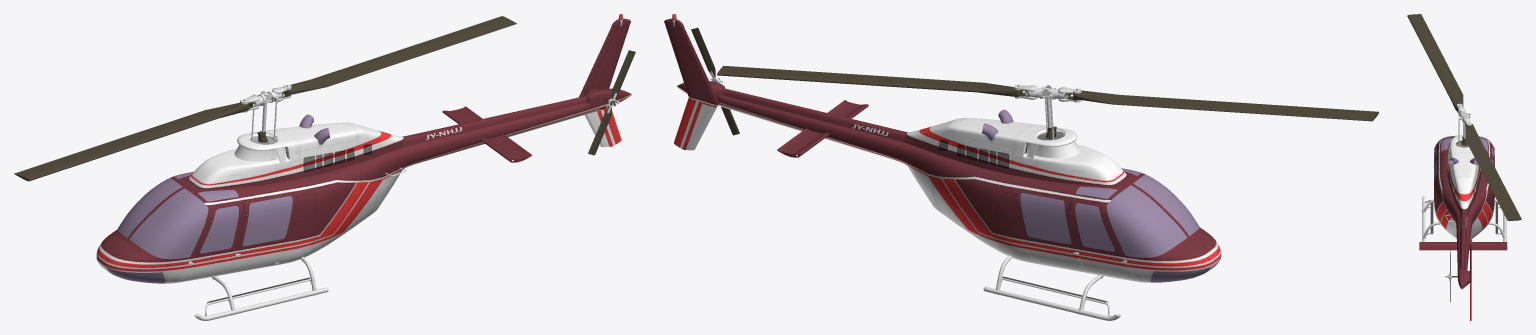
File: helicopter.gltf
3 views of the same model, side by side, from view 1: azimuth 30°, elevation 25°; view 2: azimuth 150°, elevation 25°; view 3: azimuth 270°, elevation 25° (orthographic). The views are drawn at different scales.
Parts seen in each view (by area): view 1: 直升机3; view 2: 直升机3; view 3: 直升机3.
Part boxes in pixels (box(x1,y1,x2,y2)): 直升机3: box(14, 14, 635, 320); 直升机3: box(664, 14, 1378, 320); 直升机3: box(1407, 14, 1521, 320).
Size of the model in its own units: 12.77 by 3.68 by 2.94.
10 materials, 2 textured.
